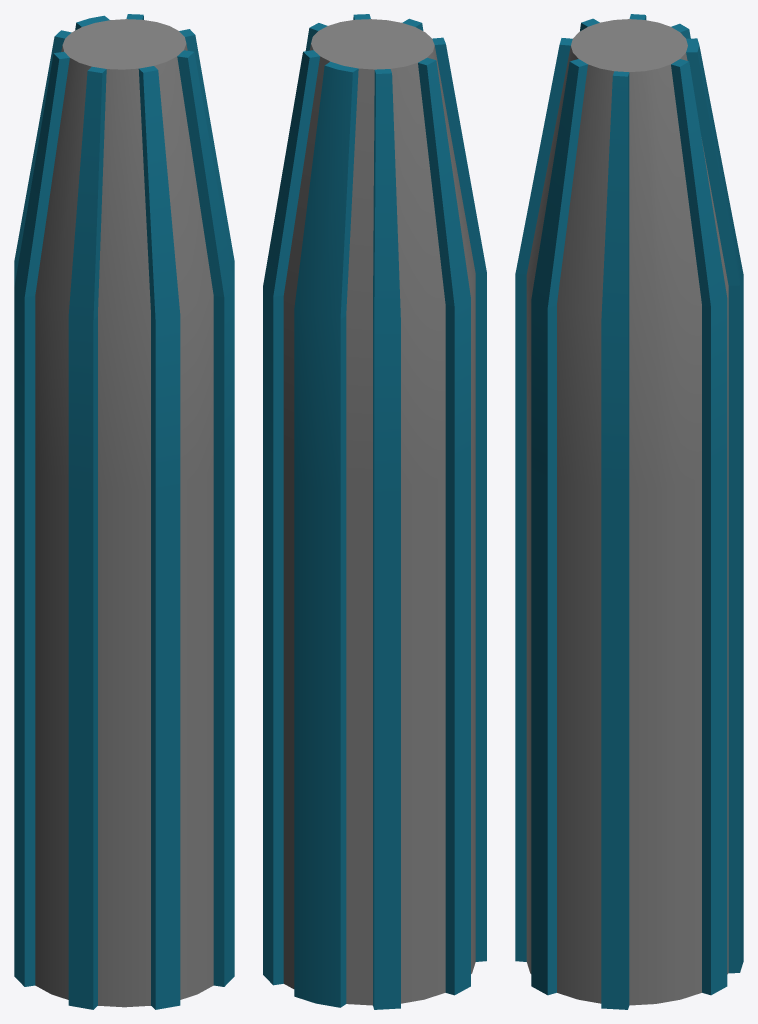
File: 燃料鑵.FBX
3 views of the same model, side by side, from view 1: azimuth 30°, elevation 25°; view 2: azimuth 150°, elevation 25°; view 3: azimuth 270°, elevation 25° (orthographic).
Visible parts, largest first — view 1: Cone005; view 2: Cone005; view 3: Cone005.
Boxes of the visible parts, box(x1,y1,x2,y2) form: Cone005: box(14, 14, 234, 1009); Cone005: box(263, 14, 486, 1009); Cone005: box(515, 14, 743, 1009).
Bounding box in the file's own units: 4 × 17.73 × 4.
